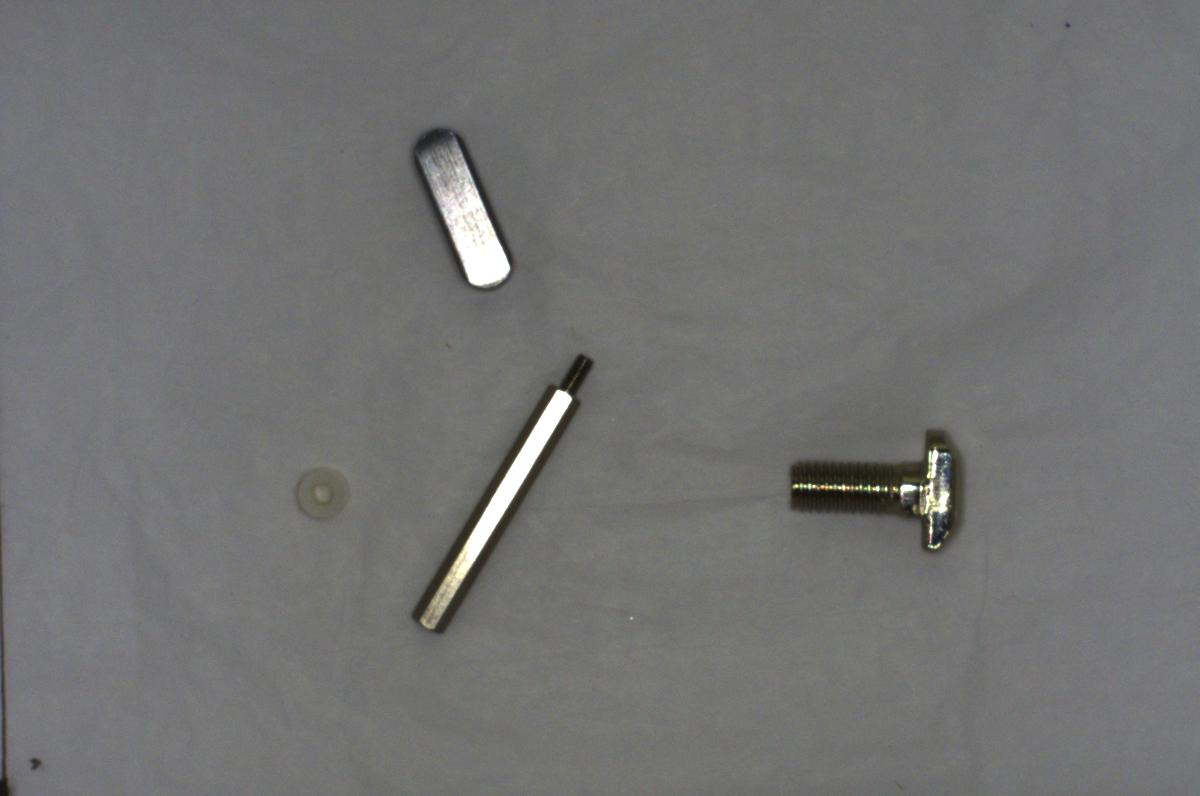Hexagonal steel column: (390, 340, 607, 646)
Keybar: (411, 122, 519, 293)
Plastic cushion pillar: (282, 453, 361, 528)
T-shaped screw: (767, 420, 975, 561)
